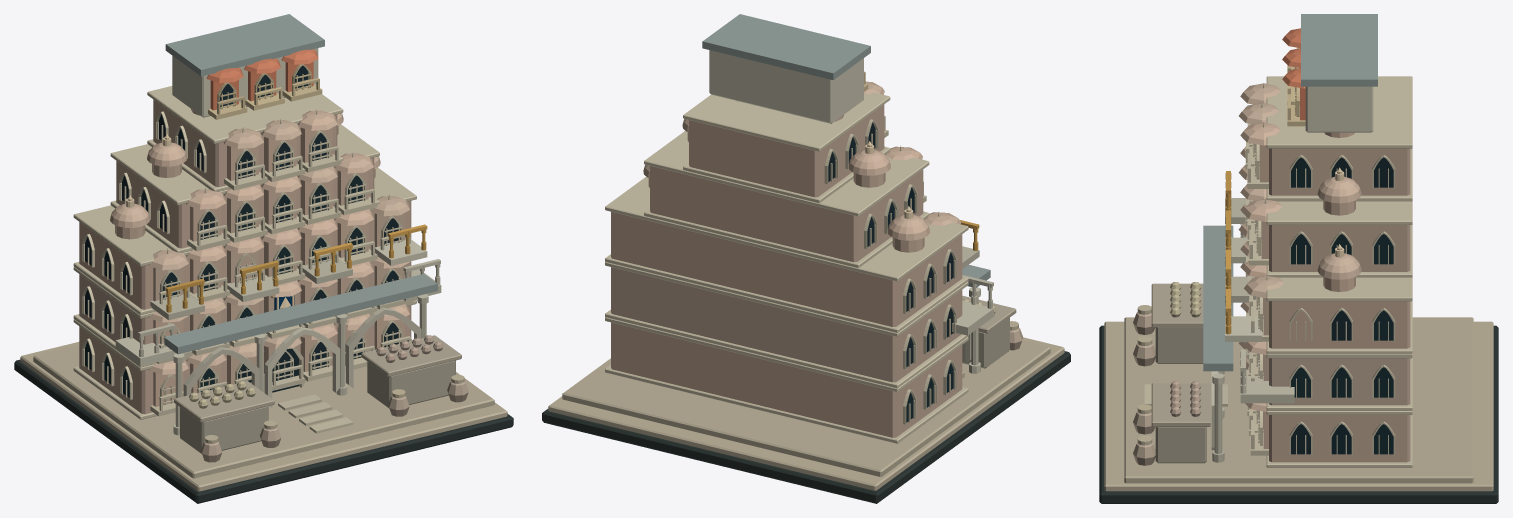
3 renders of one model, left to right at view 1: azimuth 30°, elevation 25°; view 2: azimuth 150°, elevation 25°; view 3: azimuth 270°, elevation 25°, orthographic. The views are drawn at different scales.
Visible parts, largest first — view 1: market_L5_0, market_L5_1; view 2: market_L5_0; view 3: market_L5_0, market_L5_1.
Part boxes in pixels (x1,y1,x2,y2): market_L5_0: (14,14,513,503); market_L5_1: (126,134,427,312); market_L5_0: (542,14,1070,503); market_L5_0: (1099,14,1498,503); market_L5_1: (1225,167,1344,334).
Bounding box in the file's own units: 5.6 × 5.79 × 5.6.
